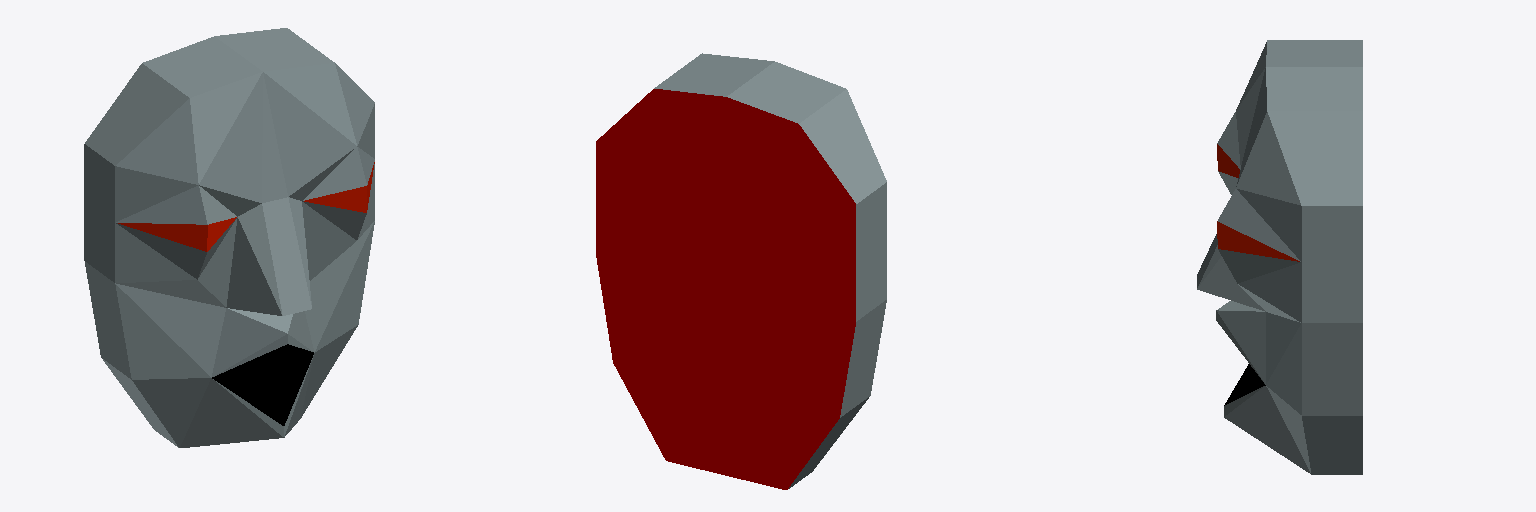
3 renders of one model, left to right at view 1: azimuth 30°, elevation 25°; view 2: azimuth 150°, elevation 25°; view 3: azimuth 270°, elevation 25°, orthographic.
Parts seen in each view (by area): view 1: FaceBaseM_O_OBJ_NSC_; view 2: FaceBaseM_O_OBJ_NSC_; view 3: FaceBaseM_O_OBJ_NSC_.
Boxes of the visible parts, box(x1,y1,x2,y2) form: FaceBaseM_O_OBJ_NSC_: box(84, 28, 374, 447); FaceBaseM_O_OBJ_NSC_: box(596, 53, 886, 489); FaceBaseM_O_OBJ_NSC_: box(1197, 40, 1362, 474).
Size of the model in its own units: 60.32 by 84 by 33.38.
Materials: 1 (1 with a texture image).